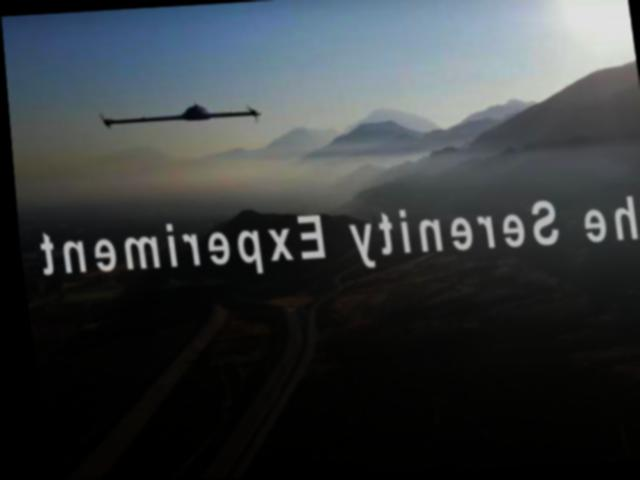iha: (89, 94, 263, 131)
